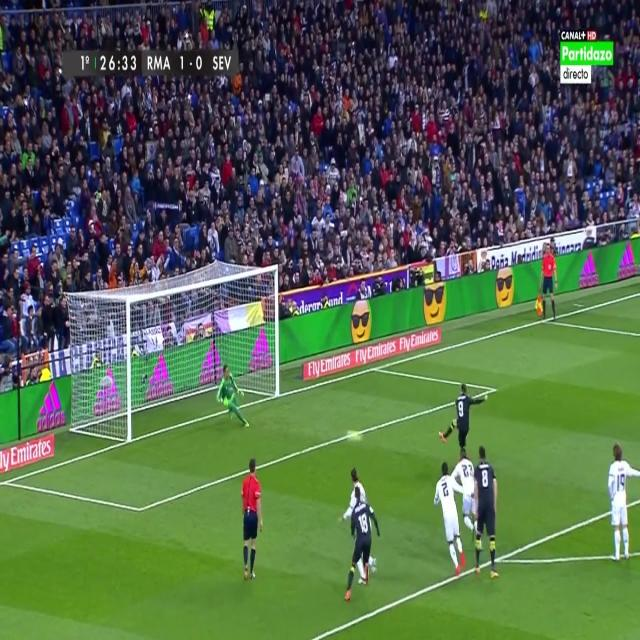Goalkeeper: (216, 362, 251, 432)
Player: (342, 488, 383, 608), (605, 442, 640, 562), (432, 460, 466, 578), (437, 385, 490, 455), (472, 442, 499, 578), (452, 449, 476, 534)
Referee: (240, 458, 266, 584), (536, 243, 558, 322)
